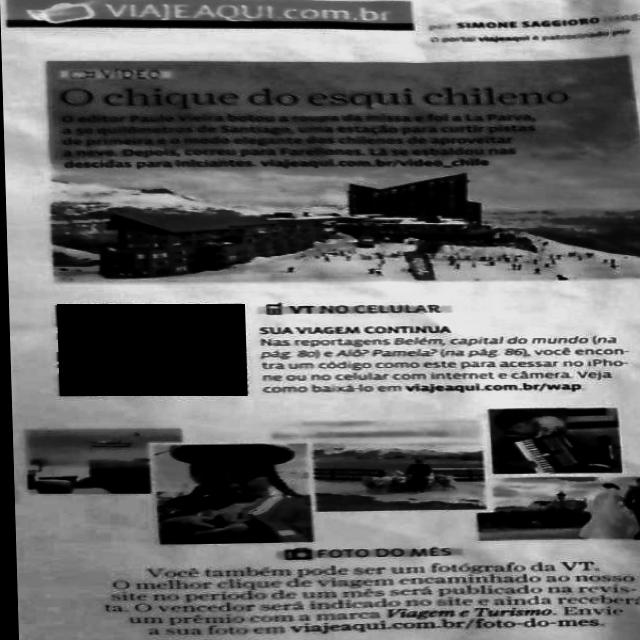qr_code: (55, 304, 245, 396)
